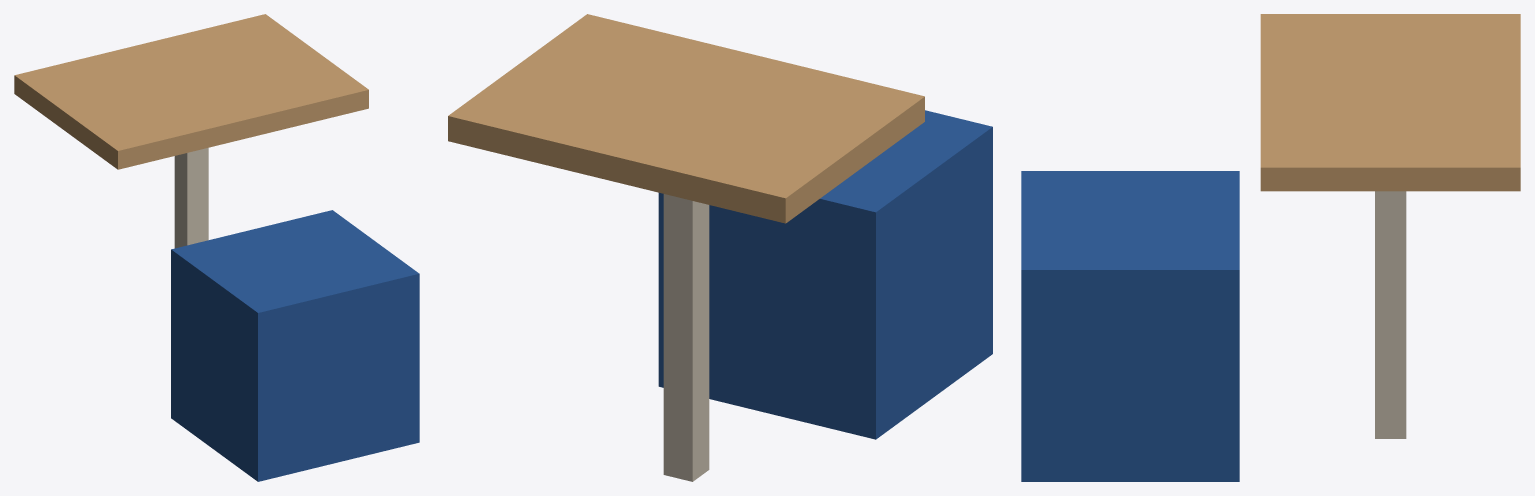
The model's file is middle_home_desk.glb.
3 renders of one model, left to right at view 1: azimuth 30°, elevation 25°; view 2: azimuth 150°, elevation 25°; view 3: azimuth 270°, elevation 25°, orthographic. The views are drawn at different scales.
Visible parts, largest first — view 1: Box3, Box1, Box2; view 2: Box3, Box1, Box2; view 3: Box3, Box1, Box2.
Part boxes in pixels (x1,y1,x2,y2): Box3: (171, 210, 419, 481); Box1: (14, 14, 368, 169); Box2: (174, 147, 208, 248); Box3: (658, 110, 992, 439); Box1: (448, 14, 924, 223); Box2: (663, 194, 709, 481); Box3: (1021, 171, 1239, 481); Box1: (1260, 14, 1520, 191); Box2: (1375, 191, 1406, 438).
Bounding box in the file's own units: 0.7 × 0.725 × 0.96.
